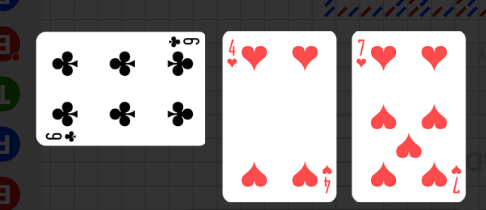6C: (166, 35, 201, 49), (44, 129, 79, 143)
7H: (449, 163, 462, 195)
